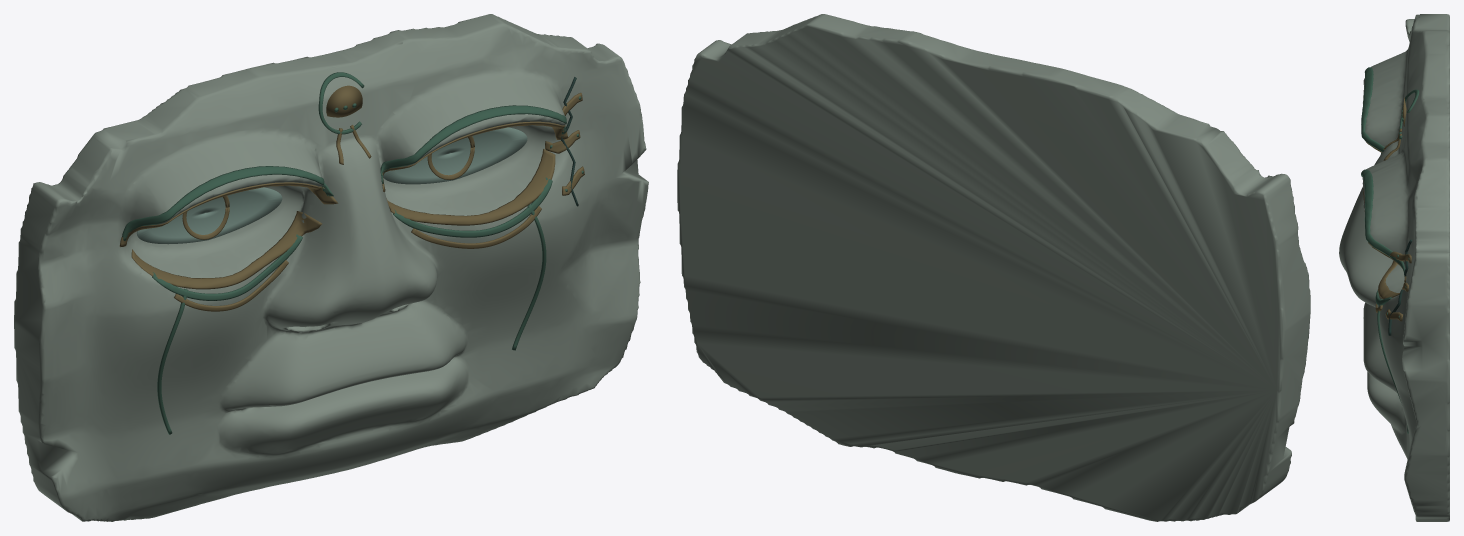
Rendered from city-face.glb.
The picture shows the model from 3 angles, left to right: view 1: azimuth 30°, elevation 25°; view 2: azimuth 150°, elevation 25°; view 3: azimuth 270°, elevation 25°; orthographic projection. The views are drawn at different scales.
Parts seen in each view (by area): view 1: city-face; view 2: city-face; view 3: city-face.
Part boxes in pixels (x1,y1,x2,y2): city-face: [14, 14, 648, 521]; city-face: [677, 14, 1310, 521]; city-face: [1339, 14, 1449, 521].
Size of the model in its own units: 7.47 by 4.95 by 1.37.
